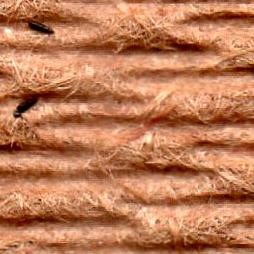egg: (15, 97, 37, 117), (29, 21, 53, 32)
